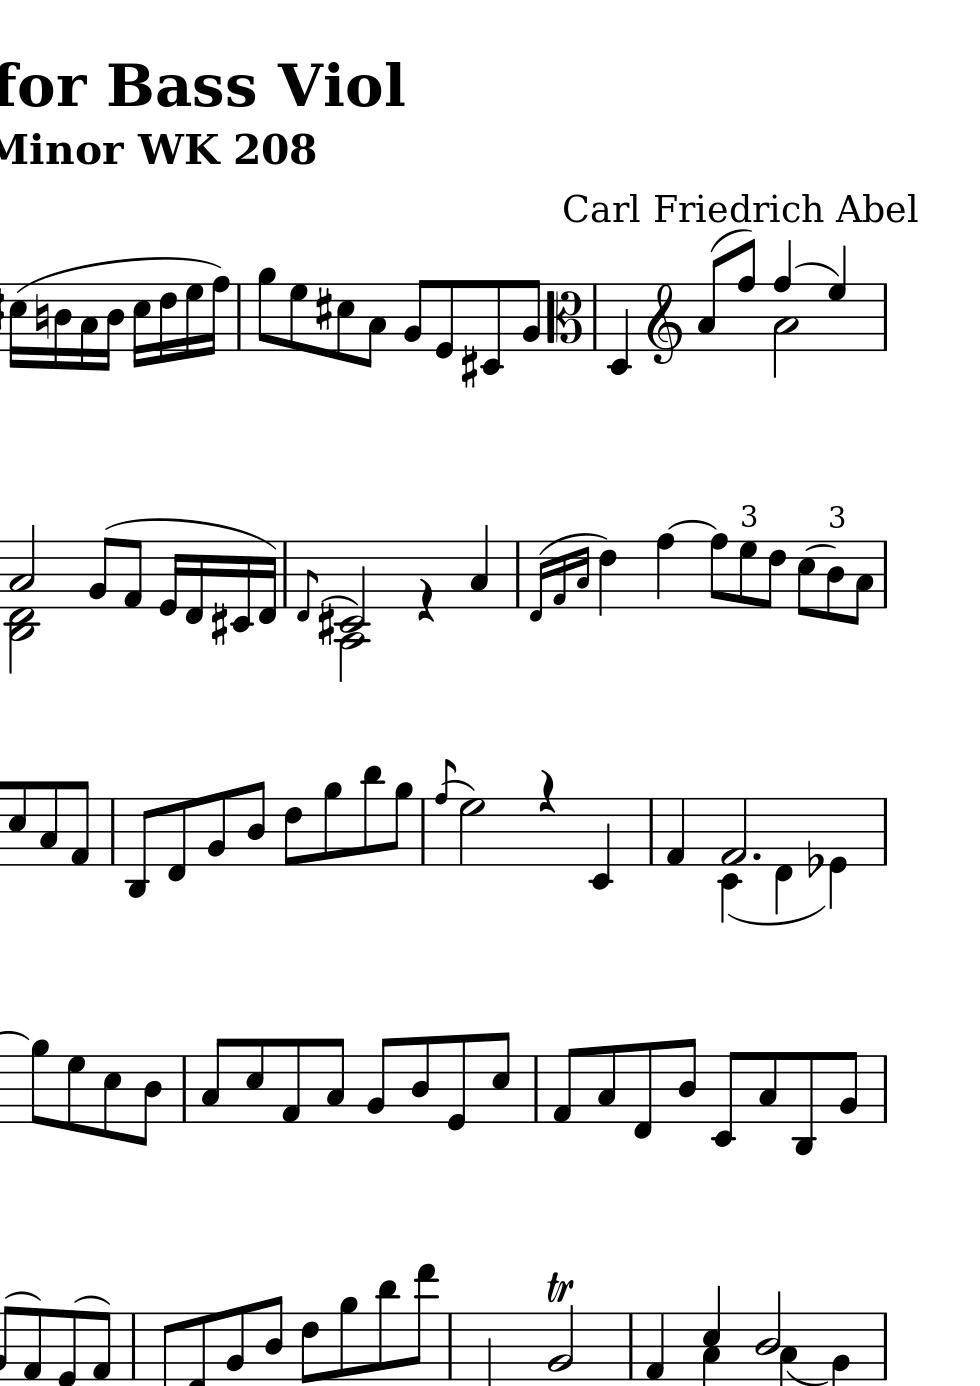16_-1: (256, 541, 278, 626), (183, 539, 205, 625)
16_-2: (229, 538, 252, 634)
16_0: (155, 541, 182, 619)
16_3: (77, 282, 98, 371)
16_4: (98, 281, 124, 373), (52, 283, 72, 371)
16_5: (130, 281, 152, 369), (7, 281, 27, 370)
16_6: (157, 281, 179, 364)
16_7: (183, 281, 203, 361)
16_8: (204, 275, 230, 356)
2_1: (719, 795, 749, 869)
2_2: (546, 1302, 574, 1383)
2_3: (8, 524, 36, 606)
2_4: (752, 1288, 781, 1384)
2_7: (456, 797, 483, 867)
3: (739, 502, 758, 529), (827, 503, 846, 530)
4_-2: (605, 280, 630, 376), (588, 796, 613, 891)
4_1: (664, 796, 687, 867), (644, 1310, 665, 1382)
4_3: (468, 523, 490, 608)
4_6: (597, 540, 617, 617)
4_7: (824, 242, 847, 351)
4_8: (655, 532, 676, 610)
8_-1: (630, 1040, 654, 1140), (165, 796, 189, 882)
8_-2: (708, 1049, 743, 1150), (480, 277, 504, 376)
8_-3: (124, 797, 154, 899), (791, 1049, 816, 1157)
8_0: (445, 1033, 468, 1134), (431, 278, 456, 361), (54, 1308, 78, 1386)
8_1: (549, 1045, 578, 1125), (278, 1036, 303, 1125), (66, 778, 89, 867), (21, 1304, 43, 1385), (120, 538, 142, 612), (90, 1310, 112, 1384)
8_11: (358, 764, 384, 869), (375, 1278, 400, 1384)
8_13: (407, 1263, 438, 1382)
8_2: (364, 1036, 393, 1125), (84, 536, 113, 610), (401, 278, 428, 353), (513, 278, 541, 351), (223, 1304, 246, 1384), (205, 789, 227, 869), (838, 1050, 859, 1125)
8_3: (848, 538, 882, 626), (695, 255, 723, 352), (358, 281, 387, 371), (198, 1036, 227, 1125), (594, 1043, 619, 1124), (37, 779, 59, 869), (323, 1036, 346, 1125), (756, 1050, 778, 1125)
8_4: (135, 1053, 163, 1150), (261, 1294, 285, 1383), (408, 1034, 432, 1125), (244, 779, 267, 869), (675, 1037, 698, 1124), (823, 540, 846, 622)
8_5: (488, 1030, 512, 1125), (242, 1037, 266, 1125), (5, 779, 27, 867), (100, 1053, 121, 1141), (334, 281, 355, 363), (795, 539, 817, 619)
8_6: (762, 539, 787, 611), (297, 1311, 320, 1385), (281, 797, 303, 869)
8_7: (63, 1054, 85, 1131), (737, 539, 758, 610), (287, 282, 307, 354)
8_8: (736, 239, 759, 352), (707, 531, 728, 610)
8_9: (386, 780, 413, 867), (27, 1038, 49, 1128), (321, 780, 343, 869), (337, 1296, 358, 1383), (256, 266, 276, 352)
Appoggiature: (434, 759, 456, 869)
Appoggiature_3: (530, 538, 593, 621)
Cclef: (545, 281, 585, 350)
Flat: (804, 838, 822, 879)
Gclef: (647, 281, 681, 364)
Natural: (33, 292, 50, 340)
Rests4: (414, 577, 435, 626), (536, 768, 557, 815)
Sharp: (313, 285, 334, 333), (459, 343, 479, 390), (317, 599, 335, 649), (211, 601, 227, 647)
Single_barline: (642, 799, 659, 866), (876, 799, 893, 866), (176, 1055, 193, 1123), (876, 1055, 893, 1123), (414, 799, 431, 865), (876, 1313, 893, 1379), (622, 1313, 638, 1378), (105, 799, 121, 866), (125, 1313, 141, 1380), (443, 1313, 459, 1380), (587, 284, 602, 350), (277, 542, 293, 608), (877, 541, 892, 608), (877, 284, 892, 350), (510, 541, 525, 607), (232, 283, 245, 351)
Slur: (15, 255, 223, 291), (104, 519, 274, 549), (727, 908, 826, 927), (533, 531, 607, 554), (710, 228, 749, 255), (795, 260, 839, 279), (664, 517, 719, 531), (443, 776, 480, 796), (784, 1369, 830, 1385), (72, 1294, 110, 1308), (4, 1289, 42, 1302), (804, 542, 839, 552)
Trill: (543, 1270, 575, 1308)
dot: (749, 850, 762, 861)
